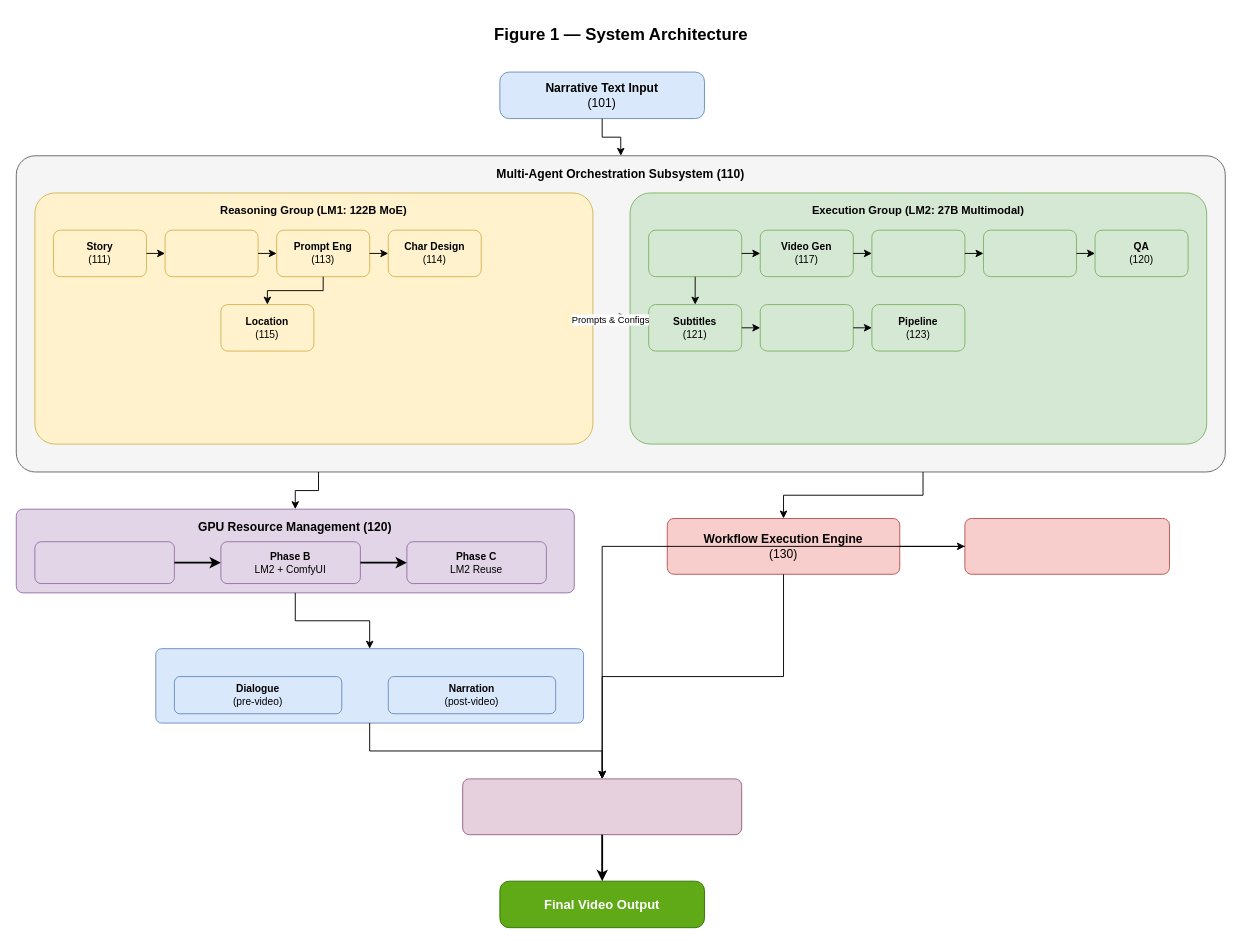
Image size: 1242x944. Some labels were removed from this diagram. Here are the shapes that lost their labels. From the top down, the box of each, then its label:
(164, 229, 258, 277): Director (112)
(648, 229, 742, 277): Image Gen (116)
(871, 229, 965, 277): Audio (118)
(983, 229, 1076, 277): Music (119)
(759, 304, 853, 351): Post-Prod (122)
(34, 541, 174, 584): Phase A LM1 Reasoning
(964, 518, 1169, 574): QA Subsystem (140)
(155, 648, 584, 723): Audio Subsystem (150)
(462, 778, 742, 835): Final Assembly (160)
